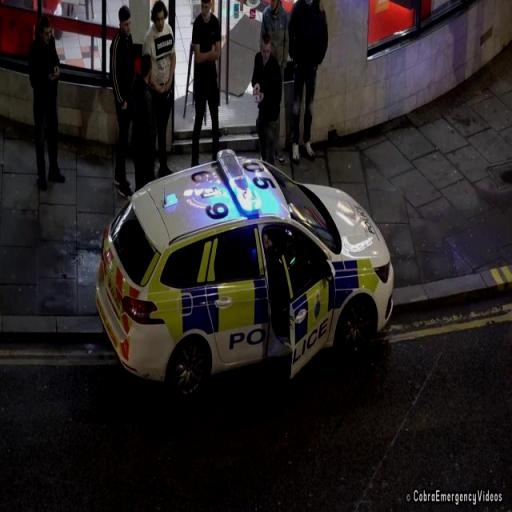Ambulance: (96, 150, 398, 376)
